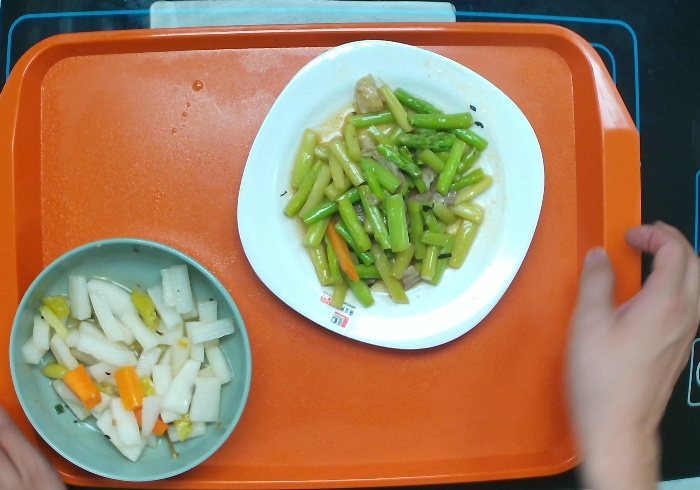ZNLD-Qing_Hua_Yuan_Wan: (6, 233, 253, 483)
ZNLD-Yuan_Jiao_Pan: (234, 38, 546, 353)
